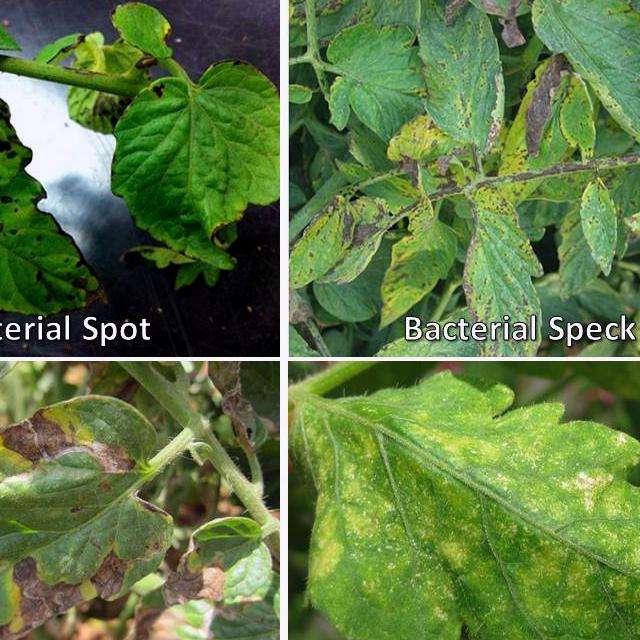Tomato leaf bacterial spot: (0, 389, 190, 640), (101, 48, 280, 312), (0, 60, 111, 338), (305, 11, 449, 144), (396, 6, 512, 170), (453, 173, 537, 354), (376, 181, 459, 348), (300, 193, 395, 306), (549, 63, 602, 170), (622, 187, 640, 354)
